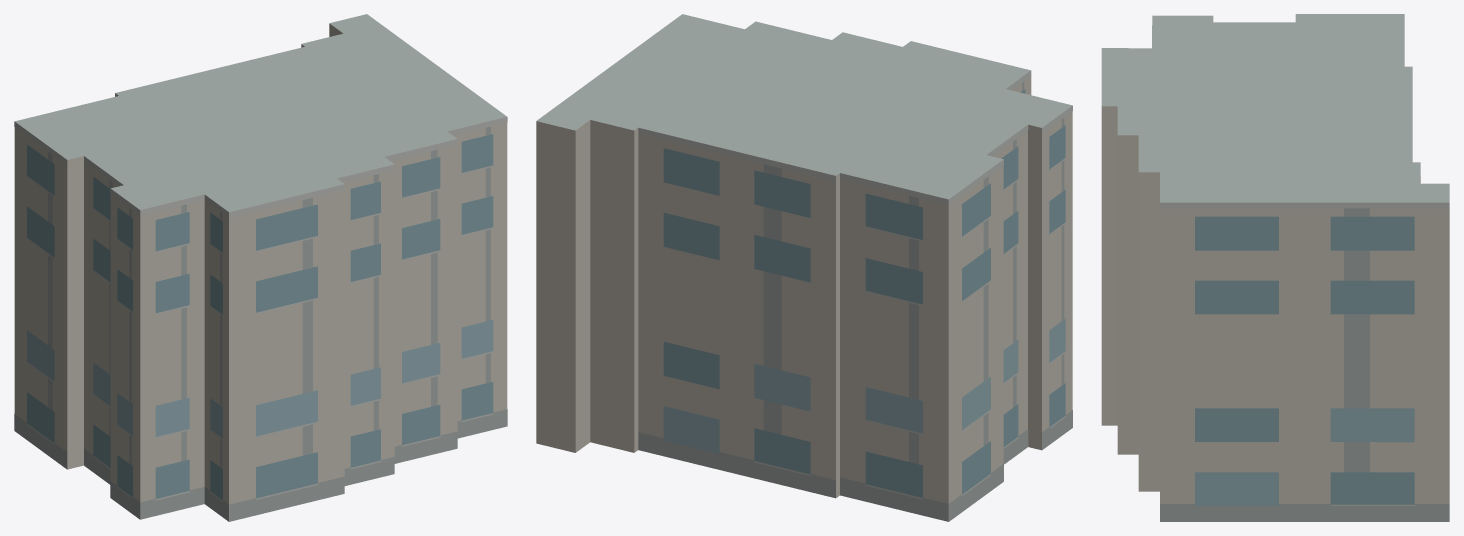
The model's file is survey-upis-32620954.glb.
The picture shows the model from 3 angles, left to right: view 1: azimuth 30°, elevation 25°; view 2: azimuth 150°, elevation 25°; view 3: azimuth 270°, elevation 25°; orthographic projection. The views are drawn at different scales.
Parts seen in each view (by area): view 1: survey-upis-32620954.tmp; view 2: survey-upis-32620954.tmp; view 3: survey-upis-32620954.tmp.
Part boxes in pixels (bbox=[...]): survey-upis-32620954.tmp: bbox=[14, 14, 507, 521]; survey-upis-32620954.tmp: bbox=[536, 14, 1072, 521]; survey-upis-32620954.tmp: bbox=[1101, 14, 1449, 521].
Size of the model in its own units: 16.86 by 13.3 by 13.15.
